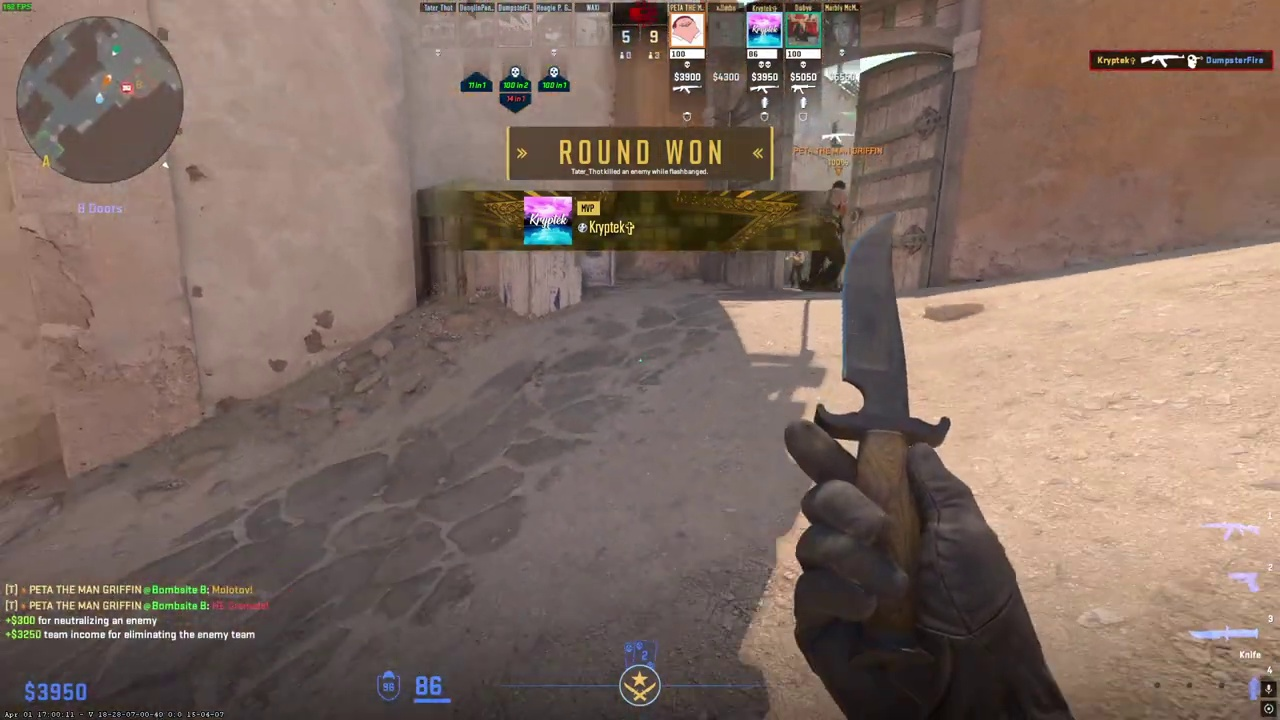Terrorist: (809, 179, 855, 292), (787, 249, 804, 287)
